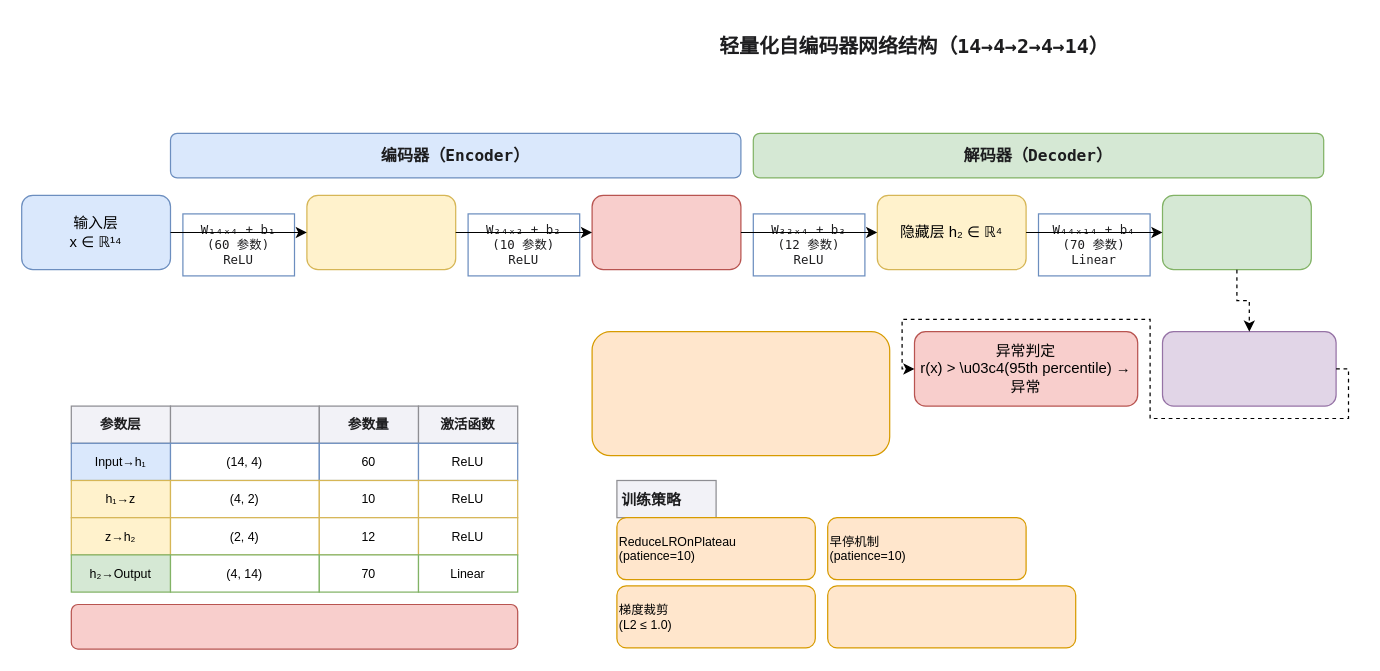
This 1380x671 diagram has some shape labels left out. The centre of each missing label's shape, as x and y in pixels:
Kaiming正态初始化 \u004e(0, \u221a2/n_in): (951,616)
总参数量：152 个 (远低于 1000，✓ 满足轻量化要求): (294,626)
损失函数：MSE Loss \u004c_MSE = (1/N) \u00b7 \u03a3 ||x_i - \u00e2x_i||² 仅在正常样本上训练: (740,393)
权重形状: (244,424)
潜在空间 z ∈ ℝ²: (666,232)
输出层 \u00e2x ∈ ℝ¹⁴: (1236,232)
重构误差 r(x) = ||x - \u00e2x||²: (1248,368)
隐藏层 h₁ ∈ ℝ⁴: (381,232)
